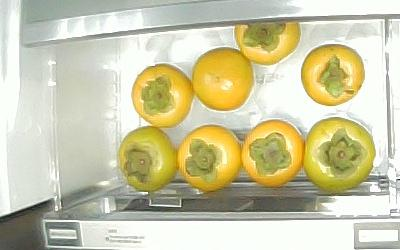persimmon: (305, 117, 376, 191), (176, 123, 241, 193), (240, 118, 304, 187), (299, 43, 364, 105), (191, 47, 253, 111), (131, 63, 192, 128), (118, 125, 175, 191), (234, 20, 300, 66)
